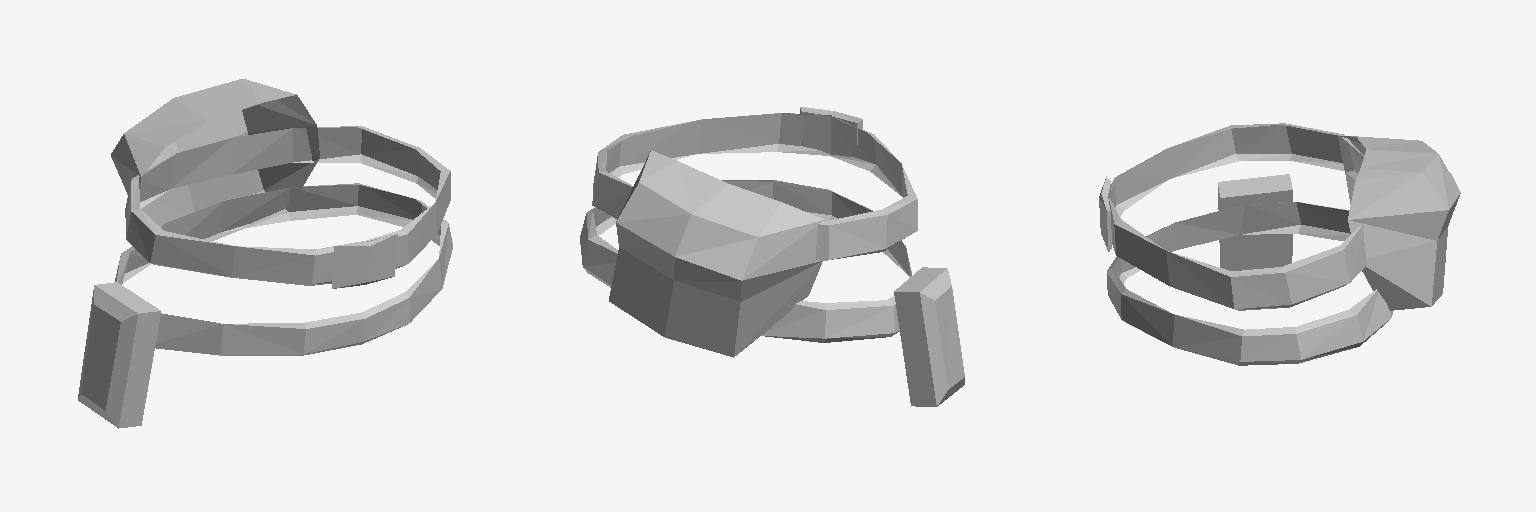
Rendered from rebelbelt_f.obj.
3 views of the same model, side by side, from view 1: azimuth 30°, elevation 25°; view 2: azimuth 150°, elevation 25°; view 3: azimuth 270°, elevation 25° (orthographic).
Parts seen in each view (by area): view 1: female_01_reference; view 2: female_01_reference; view 3: female_01_reference.
Part boxes in pixels (x1,y1,x2,y2): female_01_reference: (78, 79, 452, 428); female_01_reference: (580, 107, 964, 406); female_01_reference: (1099, 123, 1460, 365).
Bounding box in the file's own units: 14.74 × 9.07 × 13.01.